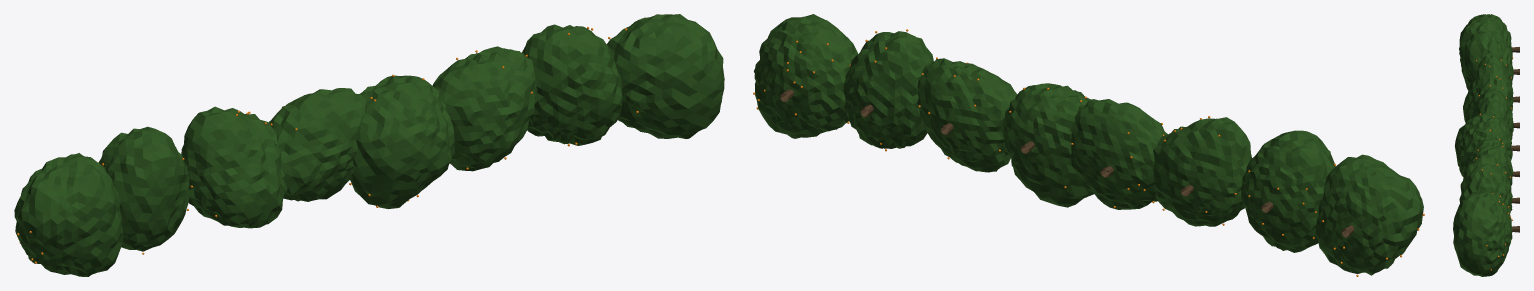
File: citrus_run8_f_fruit.obj
The picture shows the model from 3 angles, left to right: view 1: azimuth 30°, elevation 25°; view 2: azimuth 150°, elevation 25°; view 3: azimuth 270°, elevation 25°; orthographic projection. The views are drawn at different scales.
Parts seen in each view (by area): view 1: canopy; view 2: canopy, trunk, fruit; view 3: canopy, trunk, fruit.
Part boxes in pixels (left/top/right/bottom): canopy: left=14, top=14, right=724, bottom=276; canopy: left=754, top=14, right=1423, bottom=275; trunk: left=780, top=89, right=1354, bottom=237; fruit: left=753, top=29, right=1424, bottom=276; canopy: left=1453, top=14, right=1513, bottom=276; trunk: left=1511, top=47, right=1519, bottom=232; fruit: left=1475, top=57, right=1513, bottom=270.
Size of the model in its own units: 24.82 by 4.68 by 3.32.
